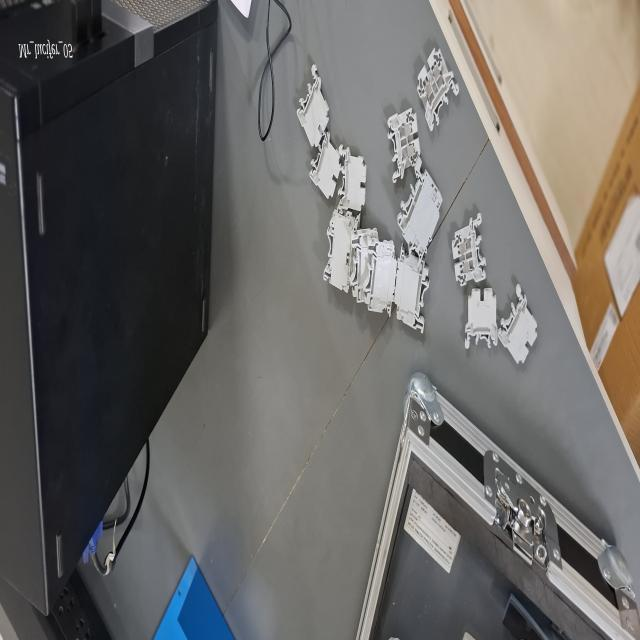Inverted: (497, 280, 542, 364), (296, 59, 332, 149), (308, 130, 344, 202), (464, 285, 498, 355), (338, 142, 369, 216)
Pass: (416, 46, 462, 135), (386, 103, 422, 186), (452, 207, 487, 290)
